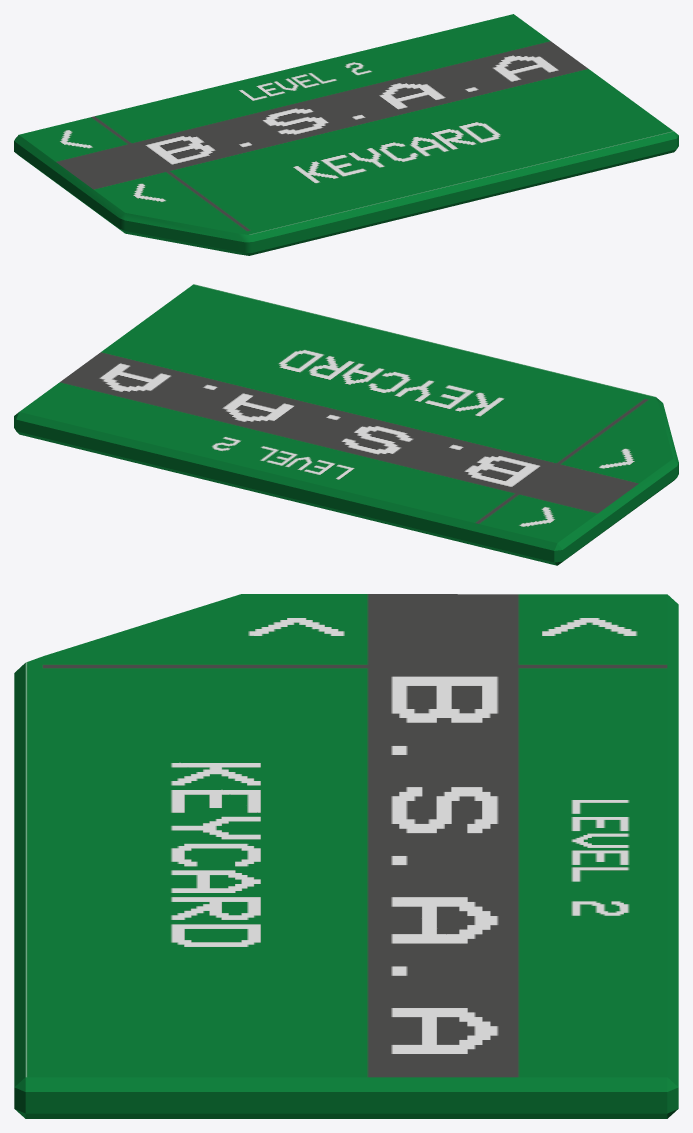
File: KEYCARD_LEVEL_2_GREEN.fbx
The picture shows the model from 3 angles, top to bottom: view 1: azimuth 30°, elevation 25°; view 2: azimuth 150°, elevation 25°; view 3: azimuth 270°, elevation 25°; orthographic projection. The views are drawn at different scales.
Parts seen in each view (by area): view 1: pCube2; view 2: pCube2; view 3: pCube2.
Part boxes in pixels (x1,y1,x2,y2): pCube2: (14,14,678,255); pCube2: (14,284,678,565); pCube2: (14,594,678,1118).
Size of the model in its own units: 0.4214 by 0.0166 by 0.2402.
Materials: 1 (1 with a texture image).
